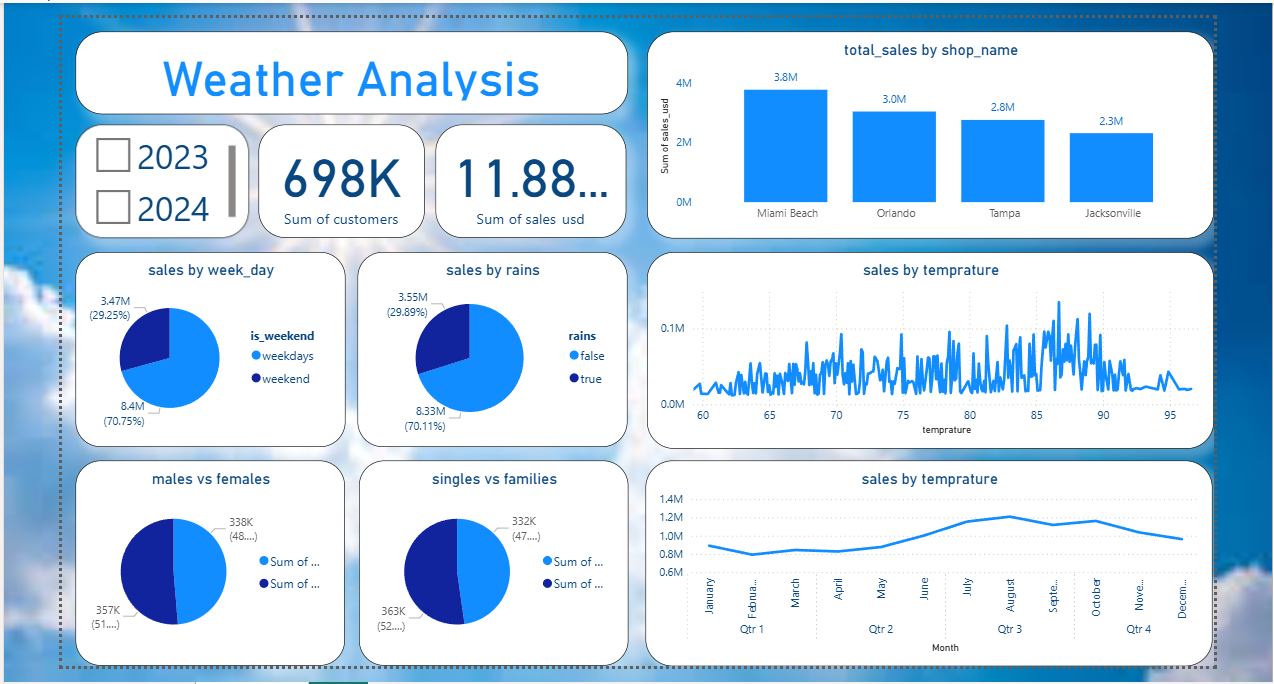

What the dashboard file says about the page in this screenshot:
{"tool":"powerbi","page":{"name":"Page 1","canvas":[1280,720],"ordinal":0},"visuals":[{"type":"clusteredColumnChart","title":"total_sales by shop_name","fields":{"Category":["power_bi_project.shop_name"],"Y":["Sum(power_bi_project.sales_usd)"]},"box":[649.3,14.6,629.9,229.9],"z":0},{"type":"pieChart","title":"sales by rains","fields":{"Y":["Sum(power_bi_project.sales_usd)"],"Category":["power_bi_project.rains"]},"box":[328.7,260.3,299.8,216.9],"z":1000},{"type":"pieChart","title":"sales by week_day","fields":{"Y":["Sum(power_bi_project.sales_usd)"],"Category":["power_bi_project.is_weekend"]},"box":[14.3,260.3,299.8,216.9],"z":2000},{"type":"lineChart","title":"sales by temprature","fields":{"Category":["power_bi_project.temprature"],"Y":["Sum(power_bi_project.sales_usd)"]},"box":[649.3,260.7,629.9,218.6],"z":3000},{"type":"card","fields":{"Values":["Sum(power_bi_project.sales_usd)"]},"box":[414.5,118.2,212.1,126.3],"z":4000},{"type":"lineChart","title":"sales by temprature","fields":{"Category":["power_bi_project.order_date.Variation.Date Hierarchy.Quarter","power_bi_project.order_date.Variation.Date Hierarchy.Month"],"Y":["Sum(power_bi_project.sales_usd)"]},"box":[649,491.7,630.3,228.5],"z":5000},{"type":"slicer","fields":{"Values":["power_bi_project.order_date.Variation.Date Hierarchy.Year"]},"box":[14.6,118.2,192.7,126.3],"z":6000},{"type":"card","fields":{"Values":["Sum(power_bi_project.customers)"]},"box":[218.6,118.2,184.6,126.3],"z":7000},{"type":"pieChart","title":"singles vs families","fields":{"Y":["Sum(power_bi_project.families_number)","Sum(power_bi_project.single_number)"]},"box":[330.3,492.4,299.6,228.3],"z":8000},{"type":"pieChart","title":"males vs females","fields":{"Y":["Sum(power_bi_project.male_number)","Sum(power_bi_project.female_number)"]},"box":[14.5,492.4,299.6,228.3],"z":9000},{"type":"card","fields":{"Values":["power_bi_project.Title"]},"box":[14.6,14.6,613.7,92.3],"z":10000}]}

Visuals, with their boxes in screenshot pixels (x1, y1, x2, y2):
"total_sales by shop_name" clusteredColumnChart: select_region(643, 26, 1211, 234)
"sales by rains" pieChart: select_region(353, 248, 624, 444)
"sales by week_day" pieChart: select_region(69, 248, 340, 444)
"sales by temprature" lineChart: select_region(643, 249, 1211, 446)
card - Sum(power_bi_project.sales_usd): select_region(431, 120, 622, 234)
"sales by temprature" lineChart: select_region(642, 457, 1212, 664)
slicer - power_bi_project.order_date.Variation.Date Hierarchy.Year: select_region(70, 120, 244, 234)
card - Sum(power_bi_project.customers): select_region(254, 120, 420, 234)
"singles vs families" pieChart: select_region(355, 458, 625, 664)
"males vs females" pieChart: select_region(69, 458, 340, 664)
card - power_bi_project.Title: select_region(70, 26, 624, 110)
